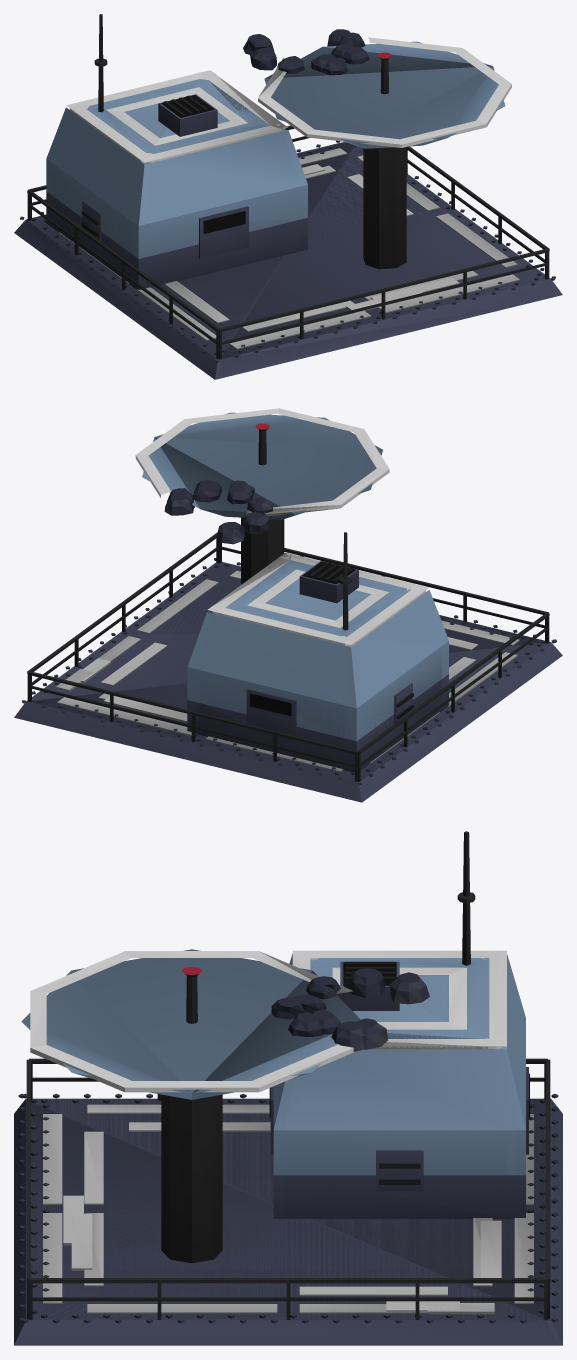
File: veyran_radar_damaged.glb
3 renders of one model, top to bottom at view 1: azimuth 30°, elevation 25°; view 2: azimuth 150°, elevation 25°; view 3: azimuth 270°, elevation 25°, orthographic. The views are drawn at different scales.
Parts seen in each view (by area): view 1: body (×3); view 2: body (×3); view 3: body (×3).
Boxes of the visible parts, x1,y1,x2,y2 form: body (×3): (14, 14, 562, 379); body (×3): (14, 408, 562, 802); body (×3): (14, 831, 562, 1345).
Size of the model in its own units: 7.4 by 4.7 by 7.4.
